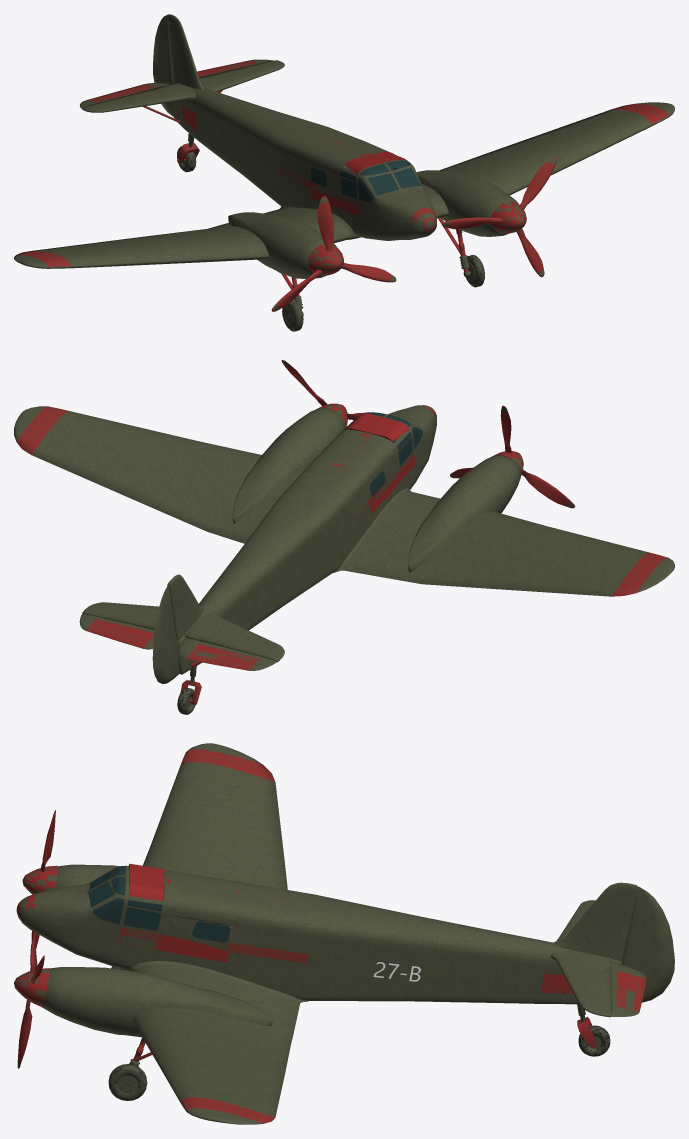
The model's file is Aircraft-1.fbx.
3 renders of one model, top to bottom at view 1: azimuth 30°, elevation 25°; view 2: azimuth 150°, elevation 25°; view 3: azimuth 270°, elevation 25°, orthographic. The views are drawn at different scales.
Visible parts, largest first — view 1: Group1; view 2: Group1; view 3: Group1.
Boxes of the visible parts, box(x1,y1,x2,y2) form: Group1: box(14, 14, 674, 331); Group1: box(14, 360, 674, 714); Group1: box(14, 743, 674, 1124).
Size of the model in its own units: 1389 by 333 by 1032.
